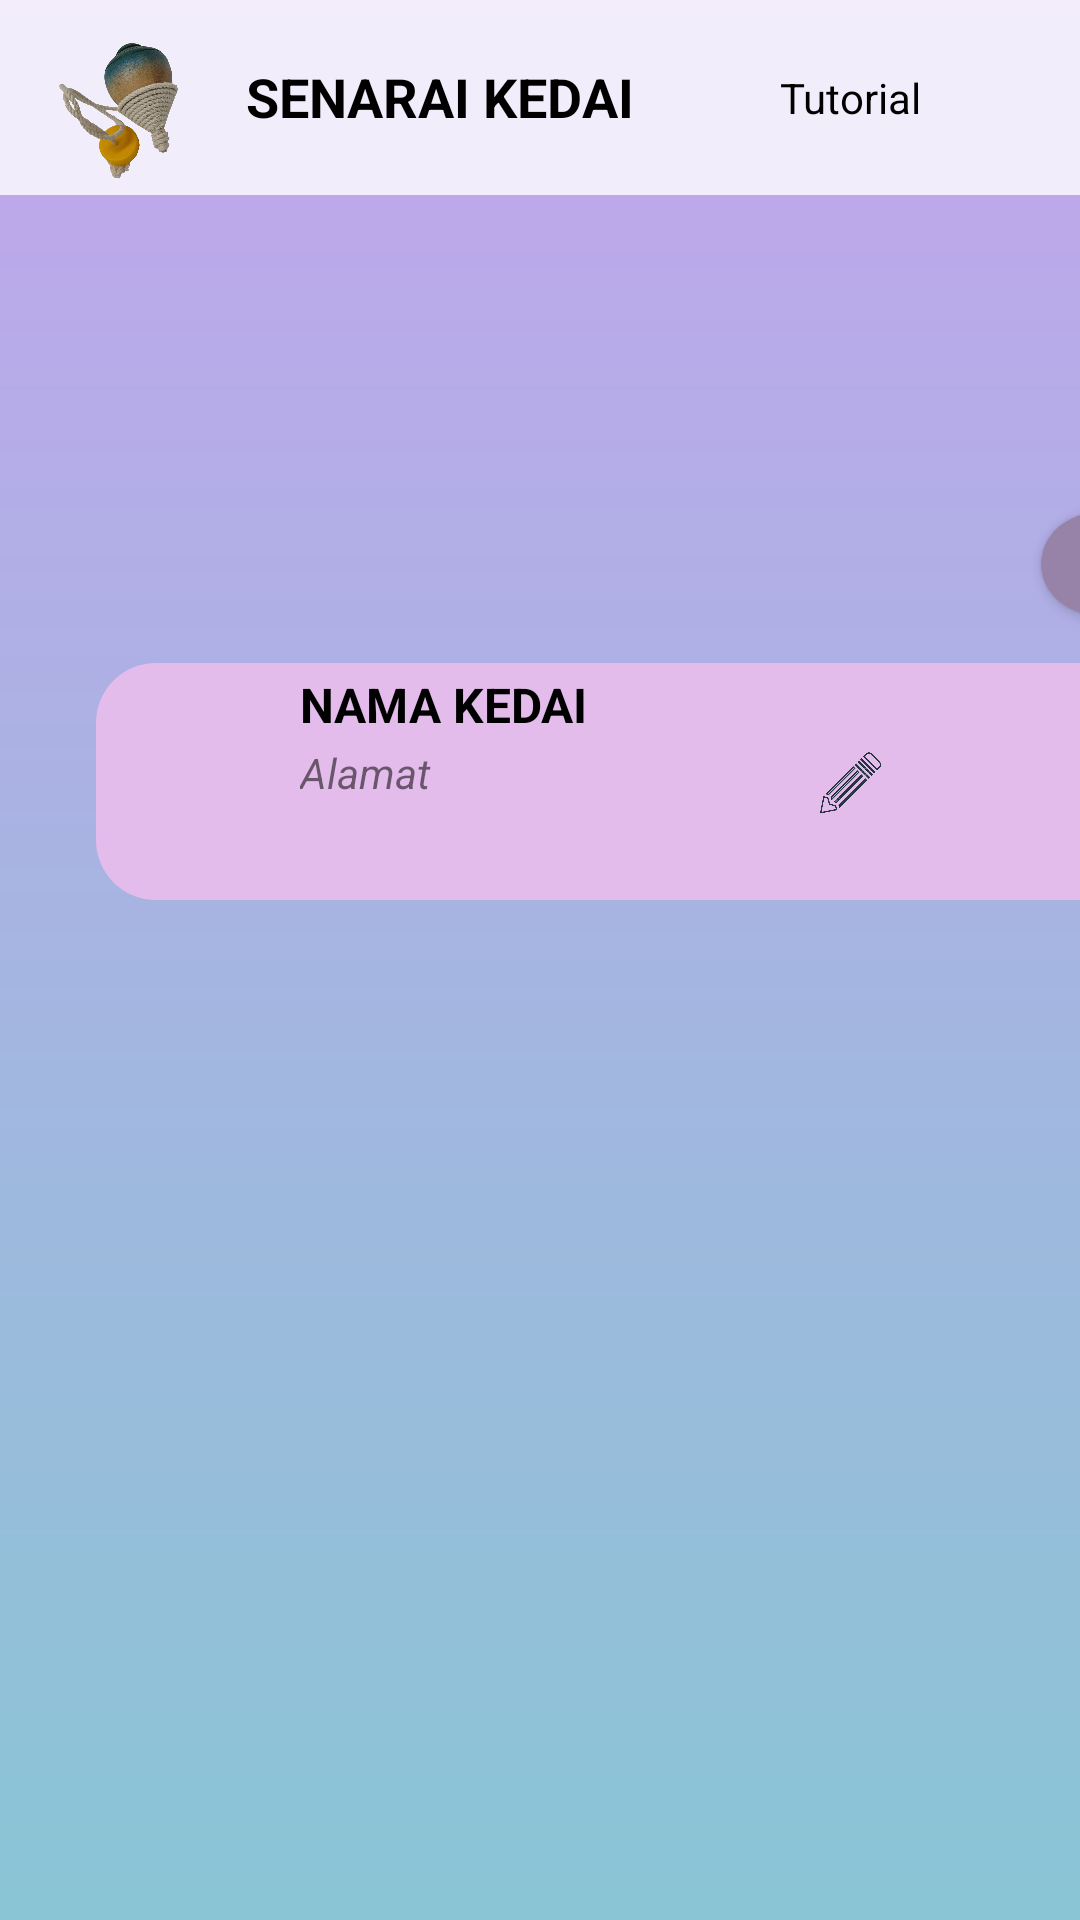

Locate icon controls on the screen. Image size 1080w x 1920h, boxes as (x1, y1, x2, y2).
gasing: (59, 43, 178, 178)
